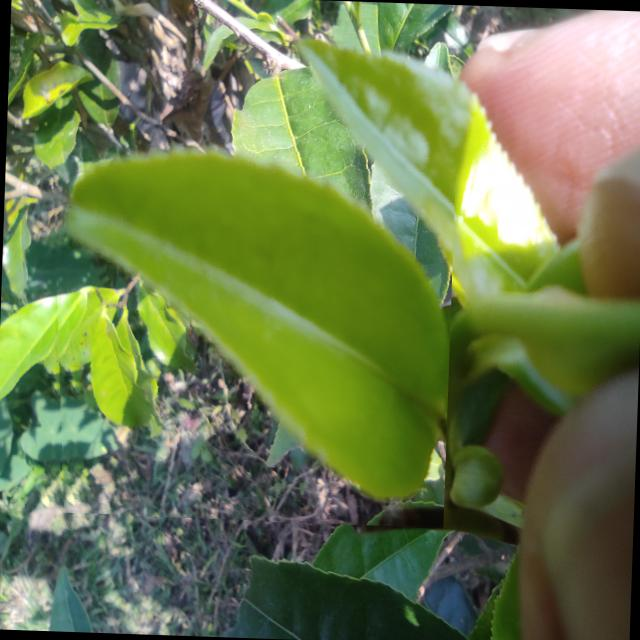Category C 4-7 days: (37, 121, 457, 529)
